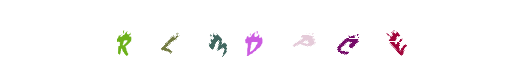3: (162, 0, 242, 80)
C: (243, 0, 323, 80)
D: (222, 0, 302, 80)
E: (332, 0, 412, 80)
L: (130, 0, 210, 80)
P: (238, 0, 318, 80)
R: (83, 0, 163, 80)
